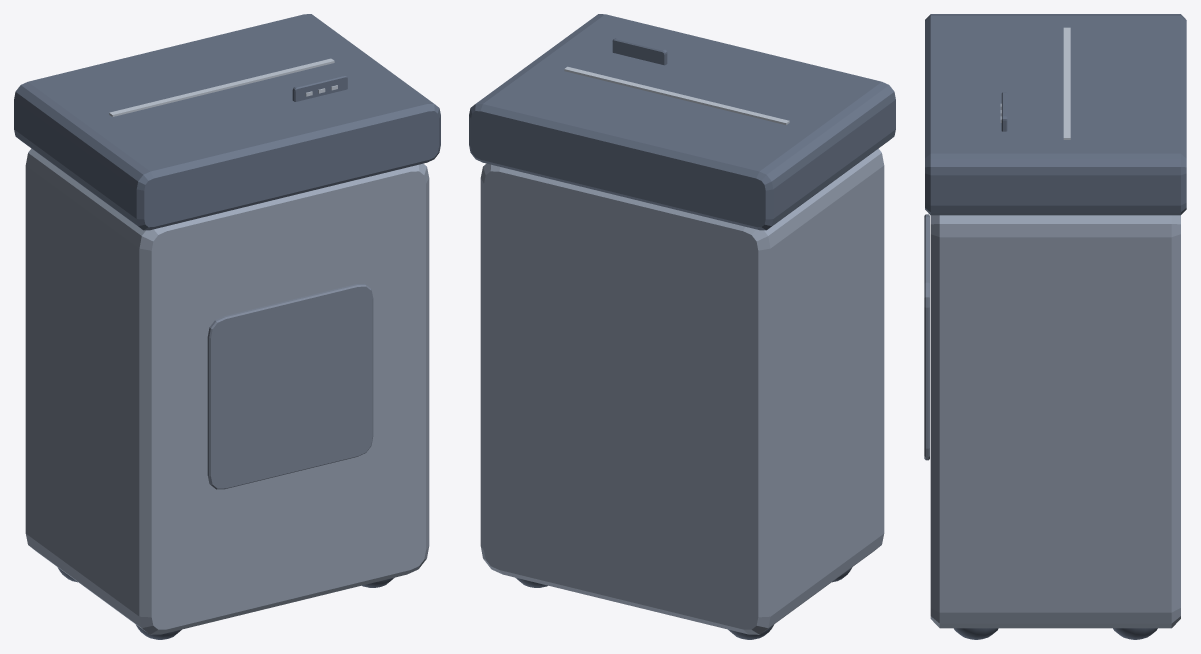
The model's file is paper-shredder-lite.glb.
3 views of the same model, side by side, from view 1: azimuth 30°, elevation 25°; view 2: azimuth 150°, elevation 25°; view 3: azimuth 270°, elevation 25° (orthographic).
Parts seen in each view (by area): view 1: body, dark, accent, light; view 2: body, dark, light; view 3: body, dark, accent, light.
Part boxes in pixels (<box>): body: <box>25,148,429,634</box>; dark: <box>14,14,440,639</box>; accent: <box>207,283,373,489</box>; light: <box>109,58,337,116</box>; body: <box>480,148,884,634</box>; dark: <box>469,14,895,639</box>; light: <box>564,66,789,125</box>; body: <box>930,215,1180,628</box>; dark: <box>925,14,1186,639</box>; accent: <box>924,214,929,460</box>; light: <box>1000,27,1070,139</box>.
Size of the model in its own units: 0.315 by 0.4985 by 0.2305.
